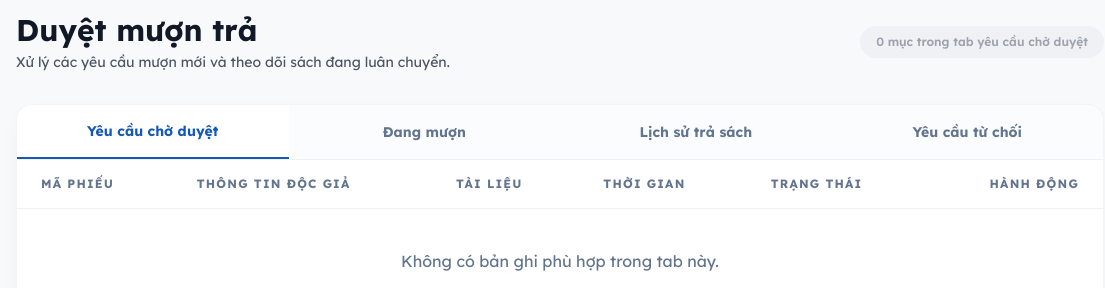
Scenario: AdminRequests › updates a borrowed request to returned after return action
Click the button "Đang mượn".
click(424, 132)  # box x1=288 y1=105 x2=560 y2=159
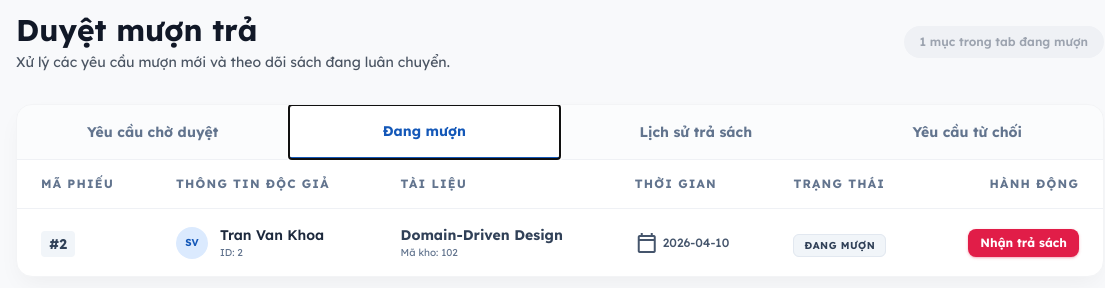
expect the button "Nhận trả sách" is shown: met
Click the button "Nhận trả sách".
click(1024, 242)  # box x1=968 y1=228 x2=1079 y2=256
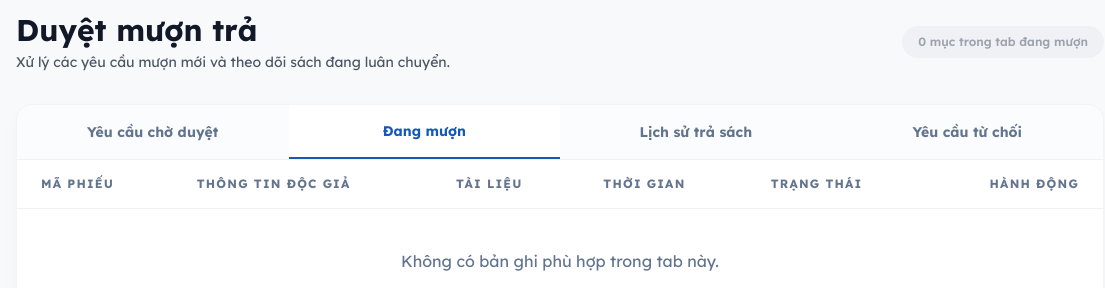
expect the button "Nhận trả sách" is gone: met
